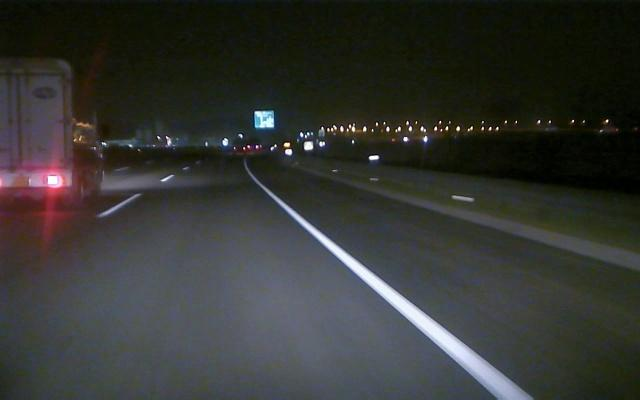lane: (259, 185, 533, 399), (97, 172, 175, 220)
